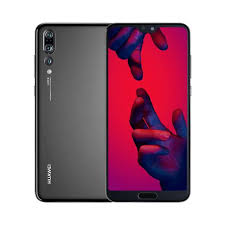huawei: (104, 19, 193, 204), (32, 18, 108, 204)
